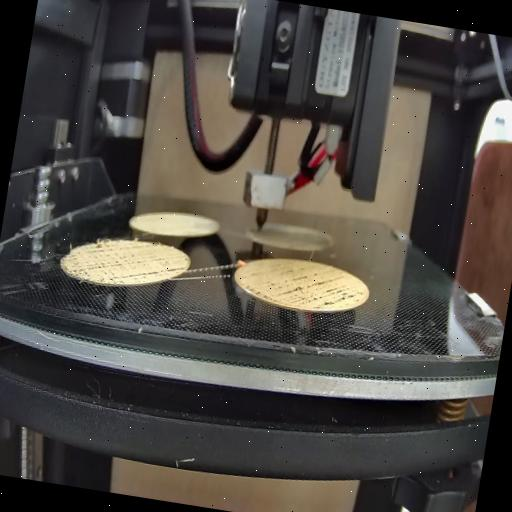under_extrusion: (68, 239, 186, 296), (242, 264, 366, 317)
